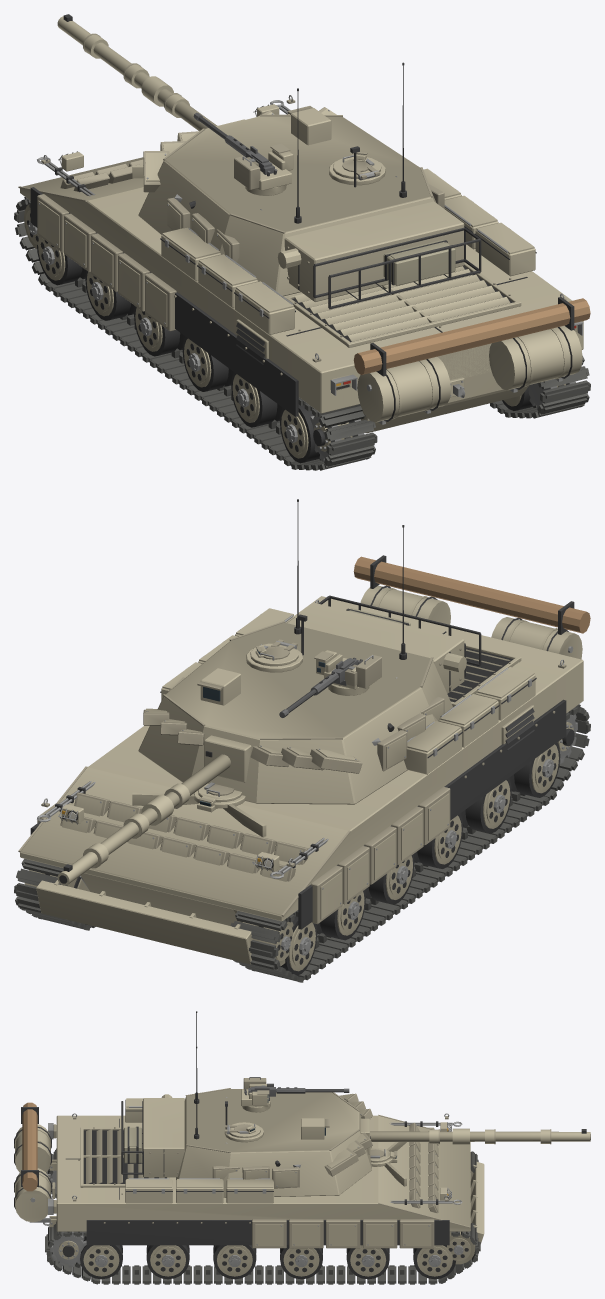
File: rus_mbt_90m.glb
The picture shows the model from 3 angles, top to bottom: view 1: azimuth 30°, elevation 25°; view 2: azimuth 150°, elevation 25°; view 3: azimuth 270°, elevation 25°; orthographic projection. The views are drawn at different scales.
Visible parts, largest first — view 1: body, turret, barrel; view 2: body, turret, barrel; view 3: body, turret, barrel.
Boxes of the visible parts, x1,y1,x2,y2 form: body: (14, 95, 590, 470); turret: (138, 62, 481, 309); barrel: (57, 14, 244, 131); body: (14, 555, 590, 982); turret: (138, 499, 481, 804); barrel: (57, 735, 251, 885); body: (14, 1098, 484, 1284); turret: (121, 1011, 372, 1197); barrel: (360, 1118, 590, 1154).
Bounding box in the file's own units: 3.78 × 3.92 × 9.69.
